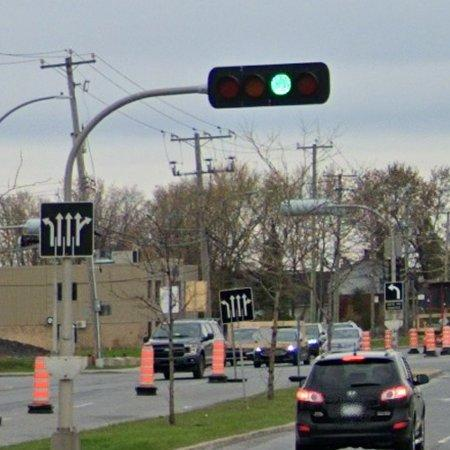traffic lights: (208, 62, 331, 108)
